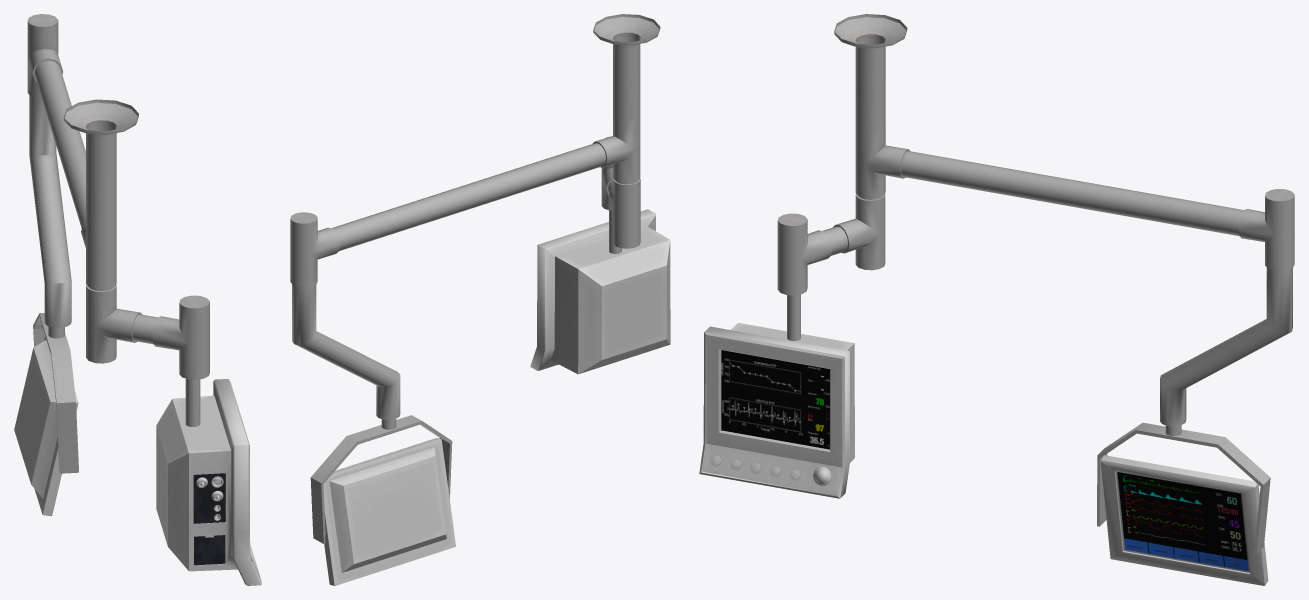
Rendered from LightC.fbx.
3 views of the same model, side by side, from view 1: azimuth 30°, elevation 25°; view 2: azimuth 150°, elevation 25°; view 3: azimuth 270°, elevation 25° (orthographic). The views are drawn at different scales.
Visible parts, largest first — view 1: LightC; view 2: LightC; view 3: LightC.
Part boxes in pixels (<box>): LightC: <box>14,14,261,585</box>; LightC: <box>290,14,670,585</box>; LightC: <box>699,14,1294,585</box>.
Bounding box in the file's own units: 57.77 × 142 × 155.
